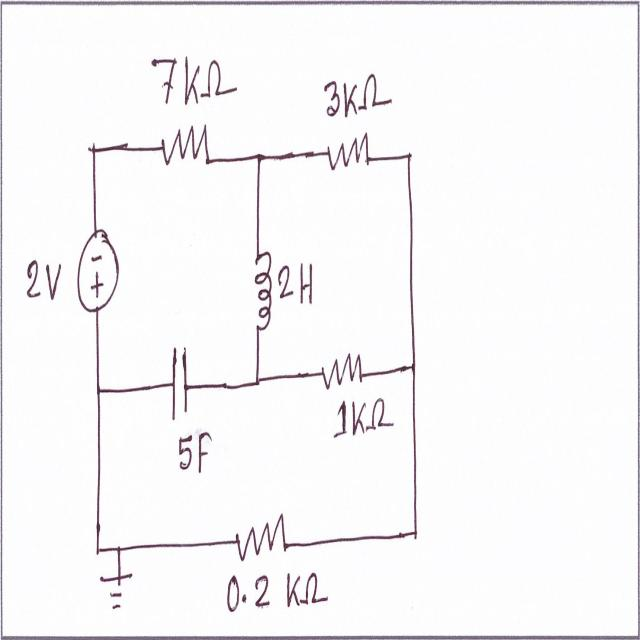capacitor: (168, 336, 194, 430)
ground: (96, 560, 138, 616)
inductor: (250, 240, 274, 340)
resistor: (228, 511, 292, 564), (158, 125, 212, 179), (320, 132, 373, 181), (318, 344, 369, 393)
voltage_source: (71, 224, 121, 326)
